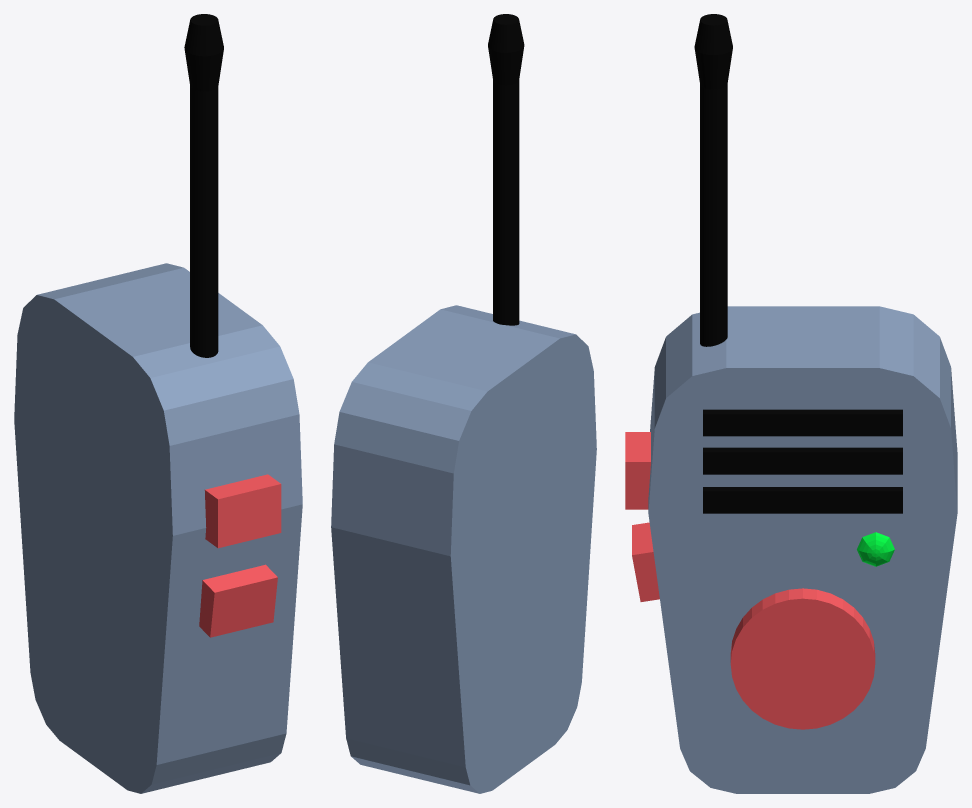
File: comunicator.fbx
The picture shows the model from 3 angles, left to right: view 1: azimuth 30°, elevation 25°; view 2: azimuth 150°, elevation 25°; view 3: azimuth 270°, elevation 25°; orthographic projection. The views are drawn at different scales.
Parts seen in each view (by area): view 1: Cube; view 2: Cube; view 3: Cube.
Boxes of the visible parts, x1,y1,x2,y2 form: Cube: (14,14,302,793); Cube: (331,14,596,793); Cube: (625,14,957,793).
Size of the model in its own units: 110 by 531 by 215.
